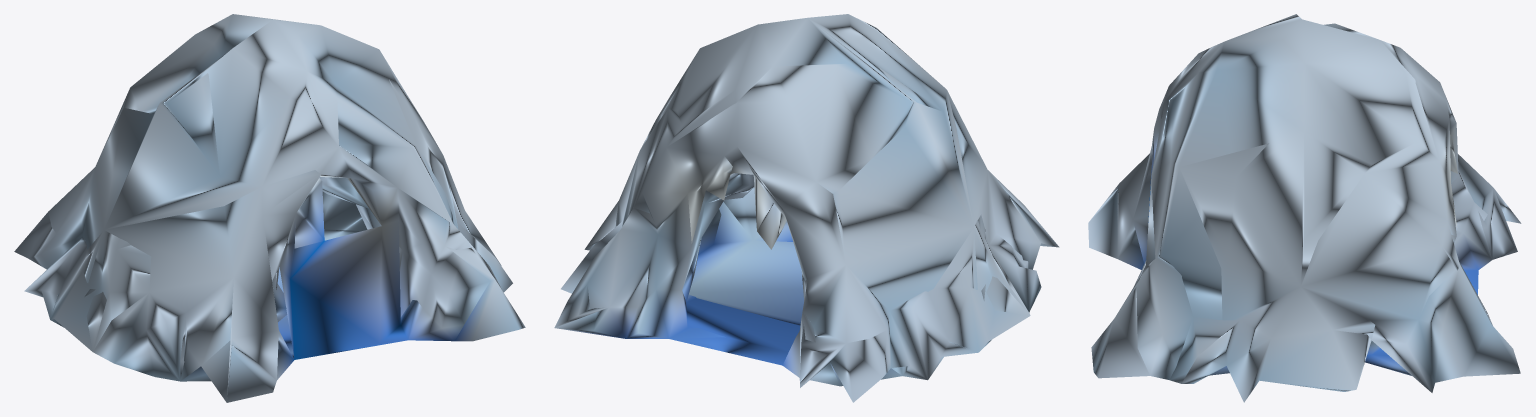
The model's file is gen3d-ice-cave-lod1.glb.
3 views of the same model, side by side, from view 1: azimuth 30°, elevation 25°; view 2: azimuth 150°, elevation 25°; view 3: azimuth 270°, elevation 25° (orthographic). The views are drawn at different scales.
Parts seen in each view (by area): view 1: part_0; view 2: part_0; view 3: part_0.
Part boxes in pixels (bbox=[...]): part_0: bbox=[14, 14, 525, 402]; part_0: bbox=[554, 14, 1059, 402]; part_0: bbox=[1088, 14, 1521, 402].
Bounding box in the file's own units: 1.51 × 0.989 × 1.36.
